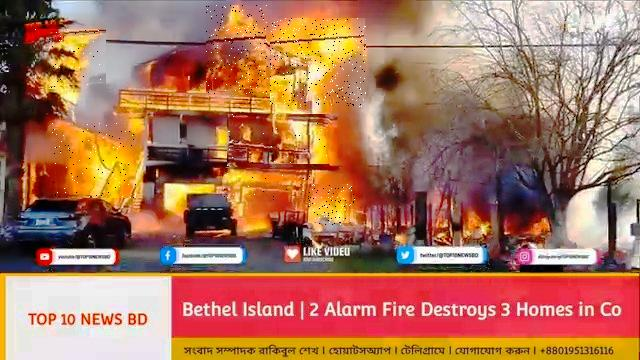fire: (270, 19, 366, 108), (52, 123, 136, 198), (207, 6, 269, 95), (228, 115, 331, 167), (35, 30, 106, 92), (223, 167, 312, 202), (309, 185, 356, 226)
